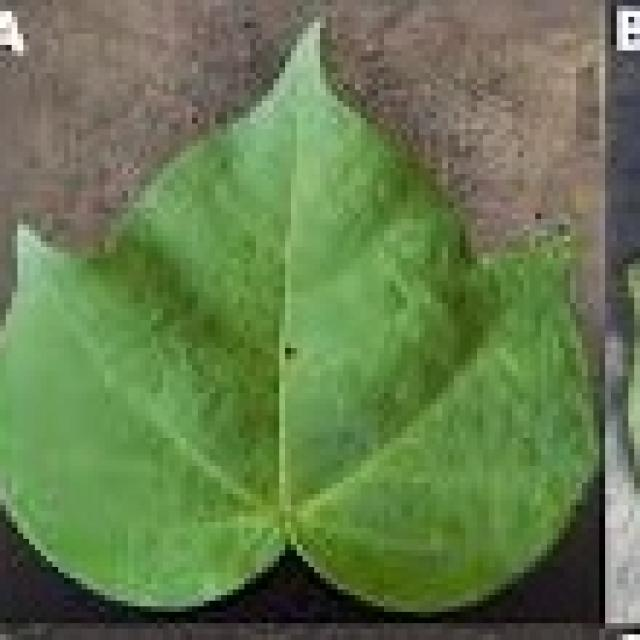Healthy Leaf: (0, 11, 623, 623)
